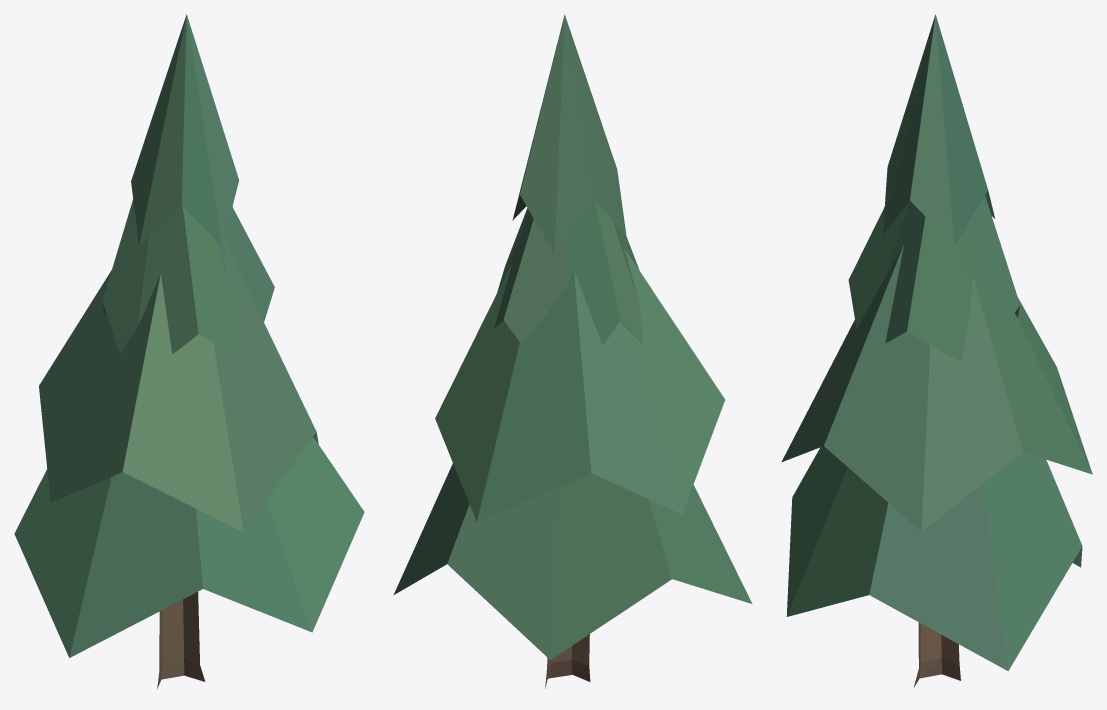
The model's file is Tree_Pine_02.glb.
3 renders of one model, left to right at view 1: azimuth 30°, elevation 25°; view 2: azimuth 150°, elevation 25°; view 3: azimuth 270°, elevation 25°, orthographic.
Visible parts, largest first — view 1: Tree_Pine_02; view 2: Tree_Pine_02; view 3: Tree_Pine_02.
Boxes of the visible parts, bbox=[...] form: Tree_Pine_02: bbox=[14, 14, 364, 688]; Tree_Pine_02: bbox=[393, 14, 752, 688]; Tree_Pine_02: bbox=[781, 14, 1092, 687].
Size of the model in its own units: 5.32 by 11.48 by 4.82.
